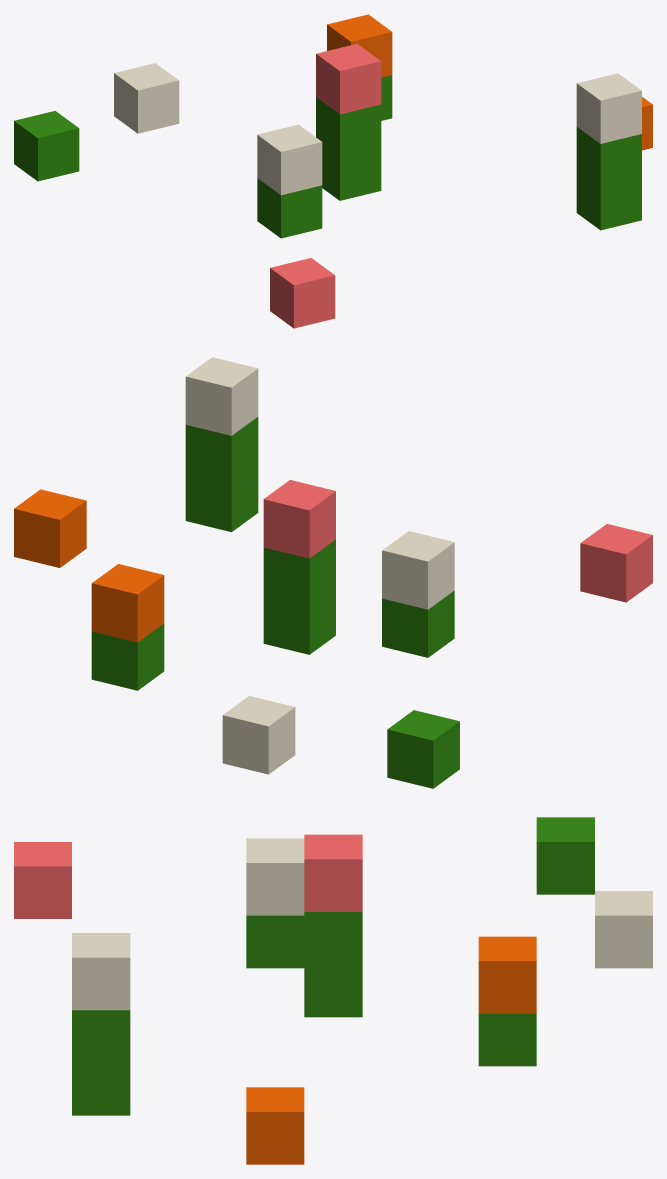
The model's file is Foliage_Set-15.obj.
The picture shows the model from 3 angles, top to bottom: view 1: azimuth 30°, elevation 25°; view 2: azimuth 150°, elevation 25°; view 3: azimuth 270°, elevation 25°; orthographic projection. The views are drawn at different scales.
Size of the model in its own units: 1.2 by 0.3 by 1.1.
1 material, 1 textured.
